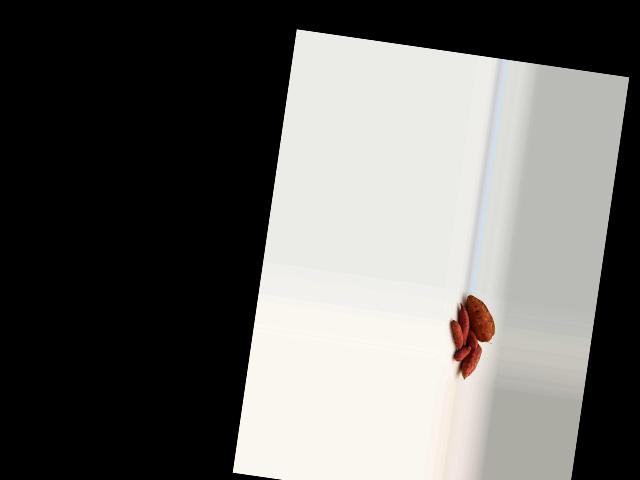sweet_potato: (459, 343, 482, 382)
